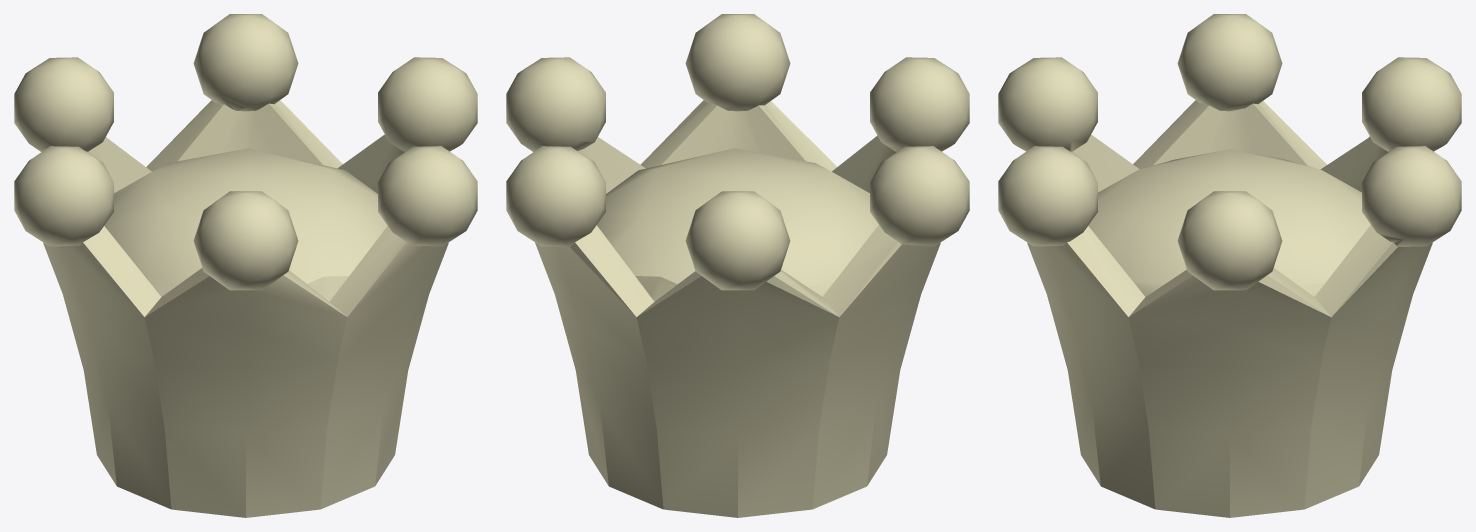
Rendered from queen_01.glb.
3 renders of one model, left to right at view 1: azimuth 30°, elevation 25°; view 2: azimuth 150°, elevation 25°; view 3: azimuth 270°, elevation 25°, orthographic.
Visible parts, largest first — view 1: queen_01.001; view 2: queen_01.001; view 3: queen_01.001.
Boxes of the visible parts, x1,y1,x2,y2 form: queen_01.001: (14,14,477,517); queen_01.001: (506,14,969,517); queen_01.001: (998,14,1461,517).
Size of the model in its own units: 0.7756 by 0.5712 by 0.6848.
